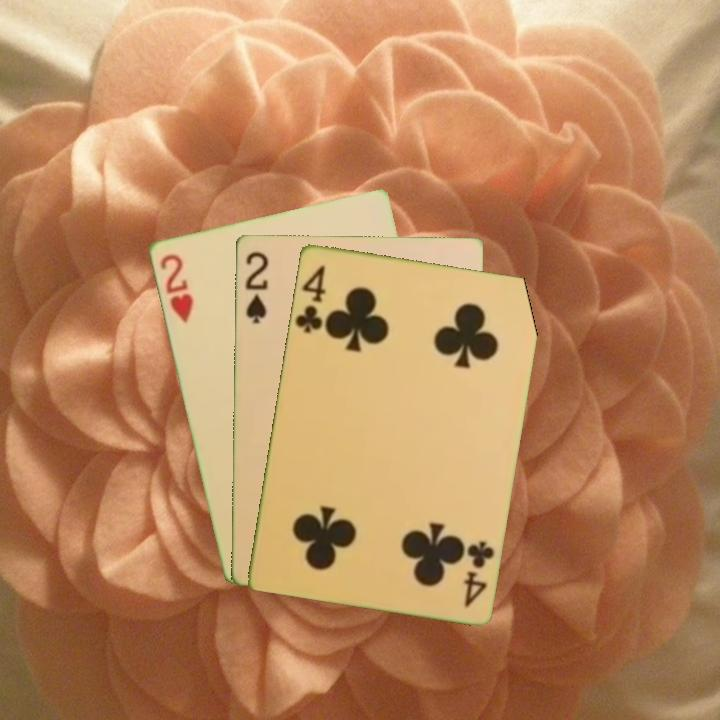2h: (156, 250, 196, 326)
2s: (242, 248, 270, 326)
4c: (291, 261, 328, 336), (460, 537, 497, 610)
